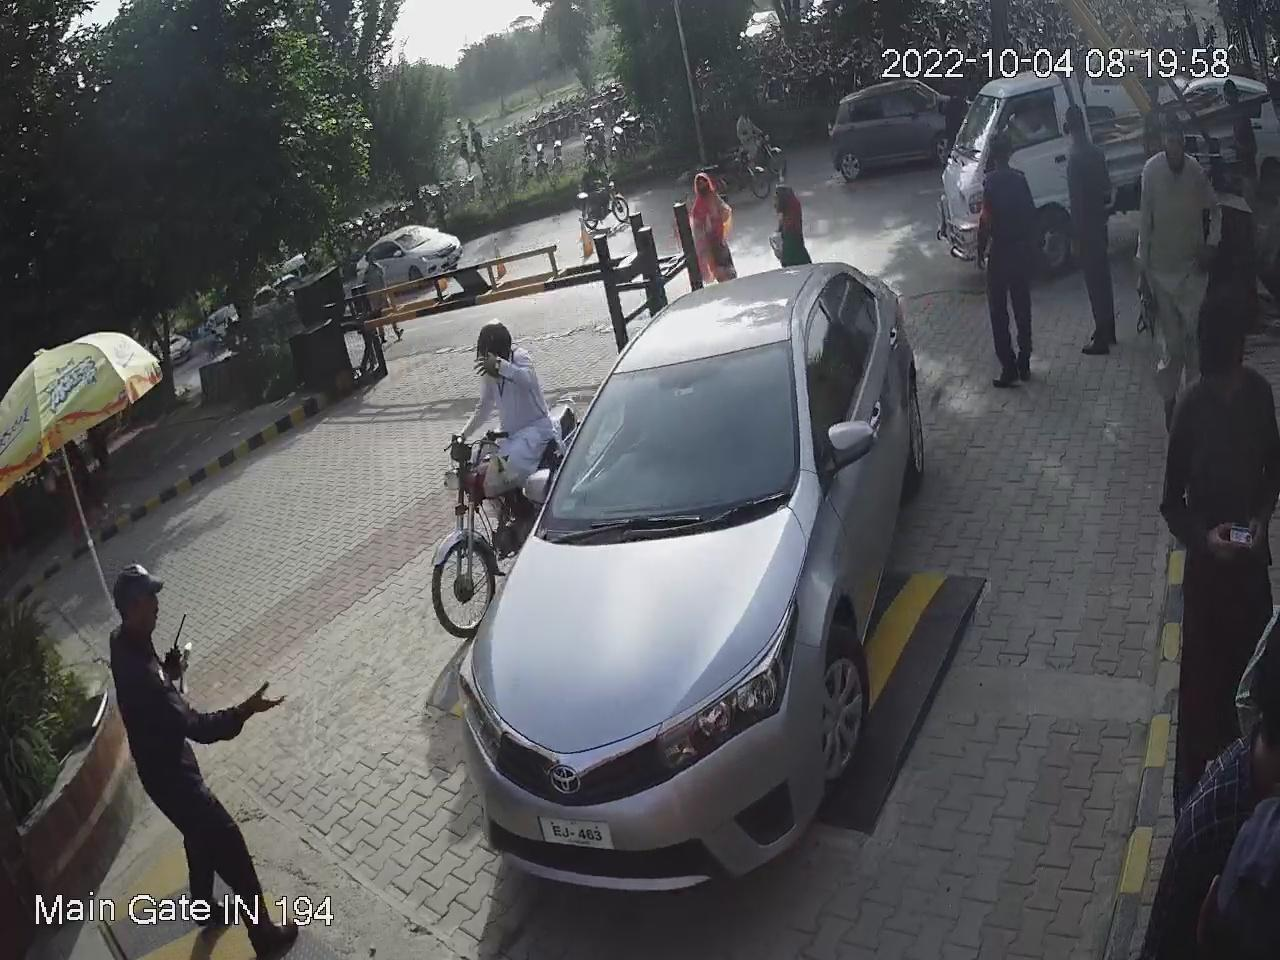windshield: (518, 330, 800, 535)
